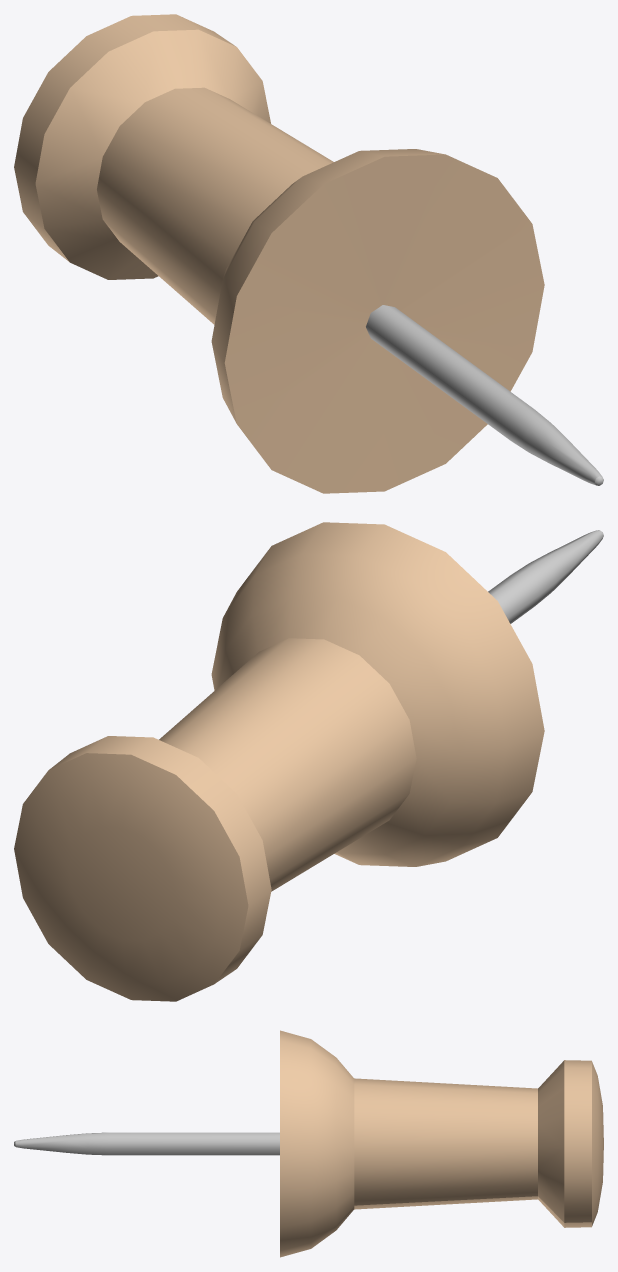
File: 빨강압정.fbx
3 renders of one model, top to bottom at view 1: azimuth 30°, elevation 25°; view 2: azimuth 150°, elevation 25°; view 3: azimuth 270°, elevation 25°, orthographic. The views are drawn at different scales.
Parts seen in each view (by area): view 1: pin_plastic; view 2: pin_plastic; view 3: pin_plastic.
Boxes of the visible parts, left/top/right/bottom form: pin_plastic: left=14, top=14, right=603, bottom=493; pin_plastic: left=14, top=522, right=603, bottom=1001; pin_plastic: left=14, top=1030, right=603, bottom=1257.
Size of the model in its own units: 92.73 by 92.73 by 241.
